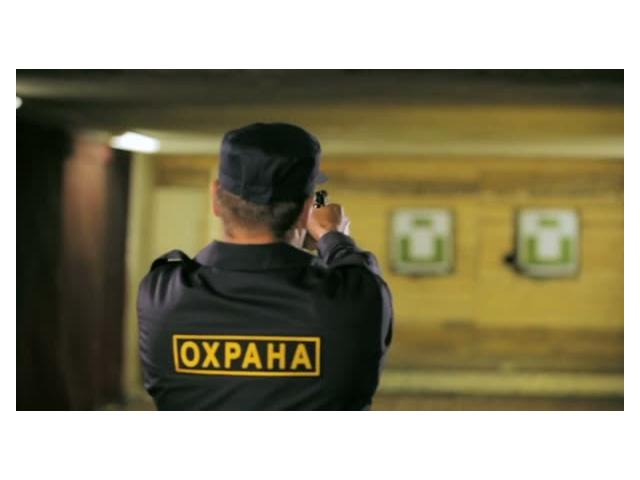pistol: (310, 187, 339, 248)
